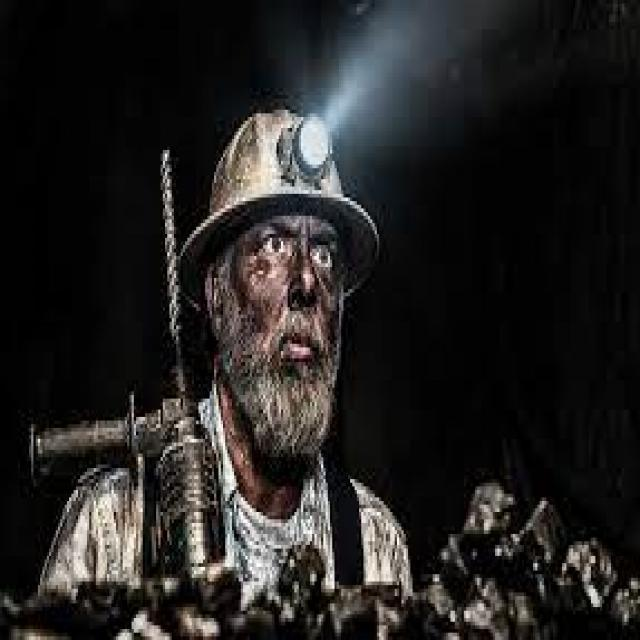No_Goggles: (244, 220, 343, 276)
Person: (192, 94, 365, 569)
